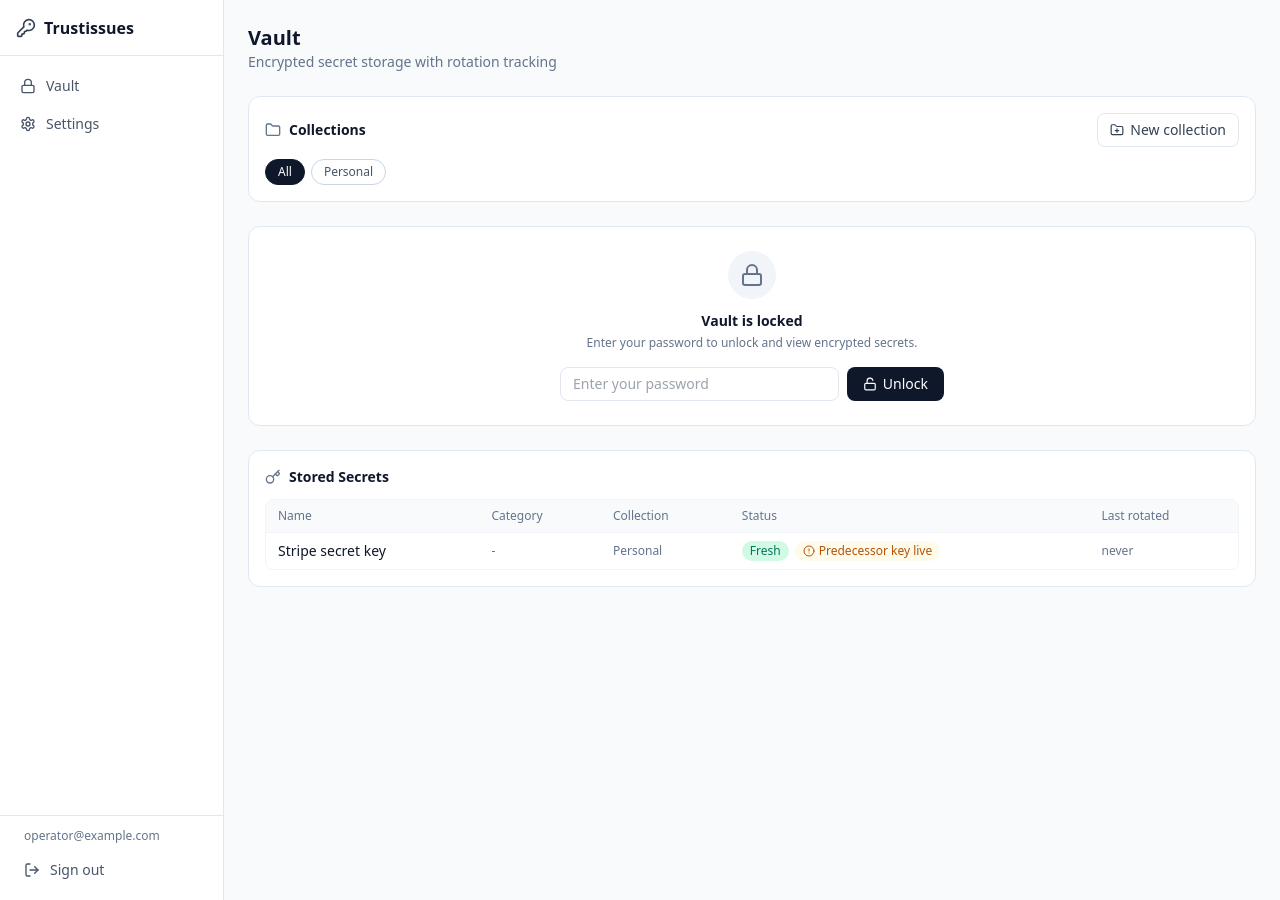
Test: the stranded-key alarm must survive unlocking › still shows "Predecessor key live" after unlocking
Expected: the text "Stripe secret key" is shown, top-left (266, 532), bottom-right (479, 569)
Type "hunter2" into the password field with placeholder "Enter your password".
click(699, 384); type("hunter2")  # box top-left (560, 367), bottom-right (839, 401)
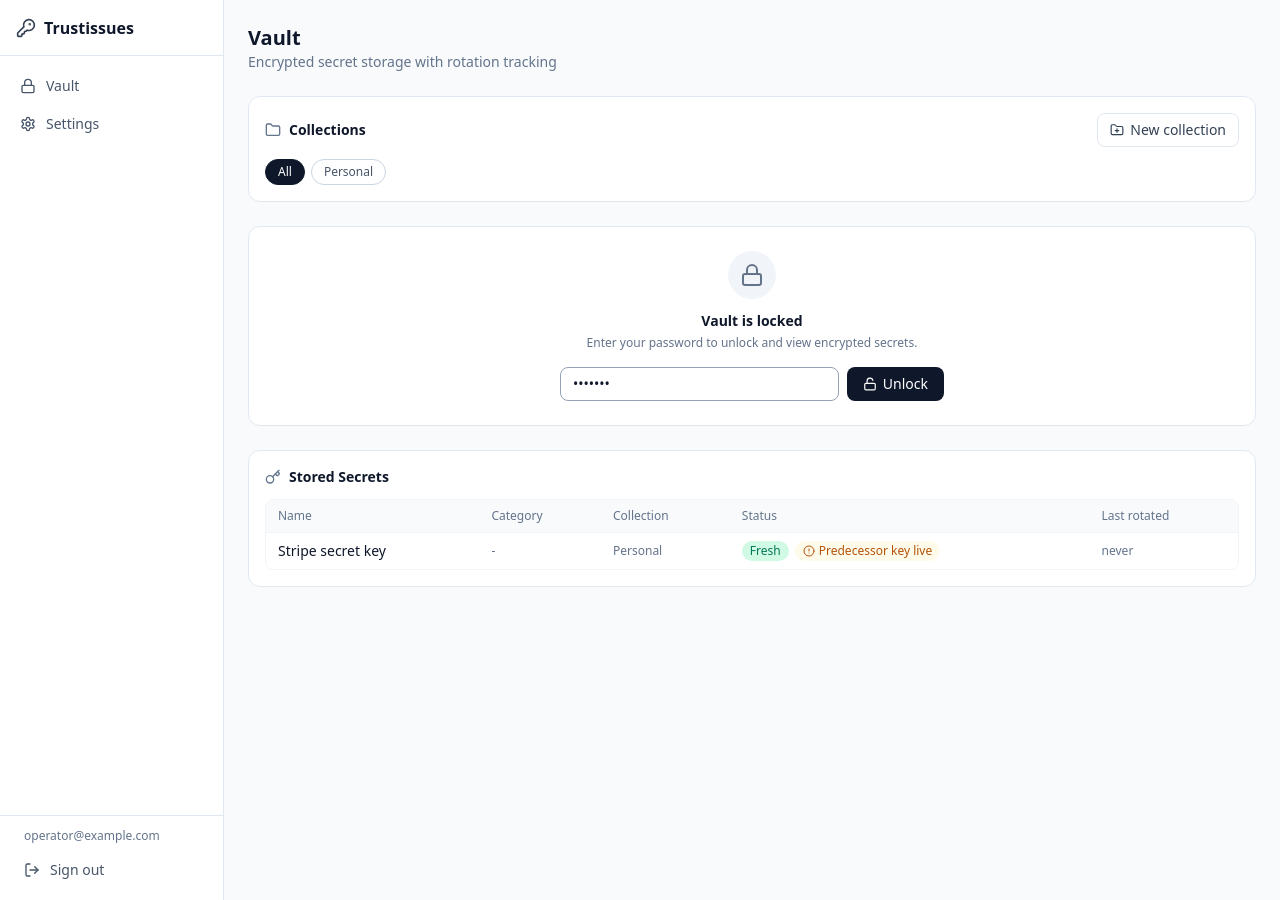
Click the button "Unlock".
click(895, 384)  # box top-left (847, 367), bottom-right (944, 401)
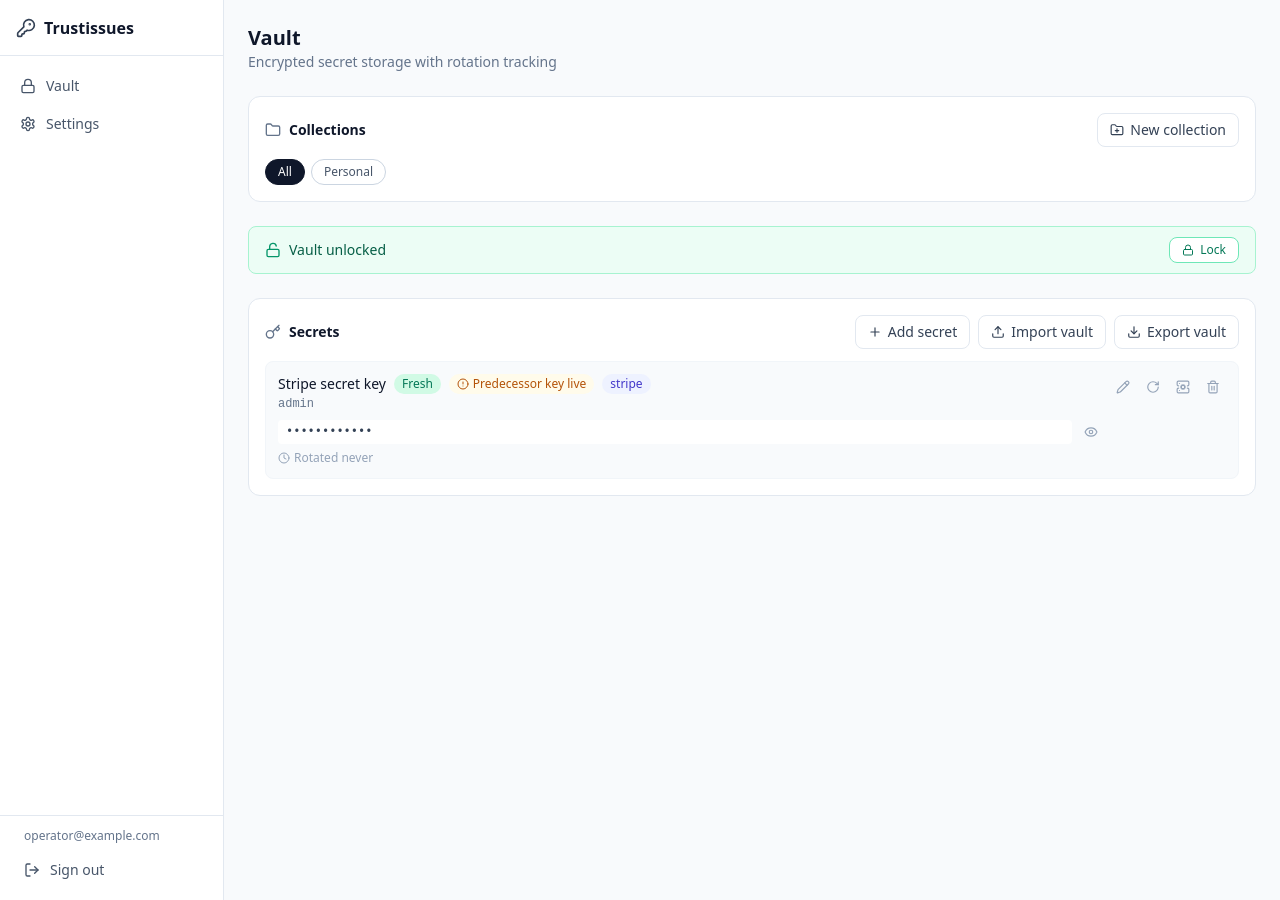
Expected: the text "Predecessor key live" is shown, top-left (449, 374), bottom-right (594, 394)
Expected: the text "admin" is shown, top-left (278, 396), bottom-right (314, 412)
